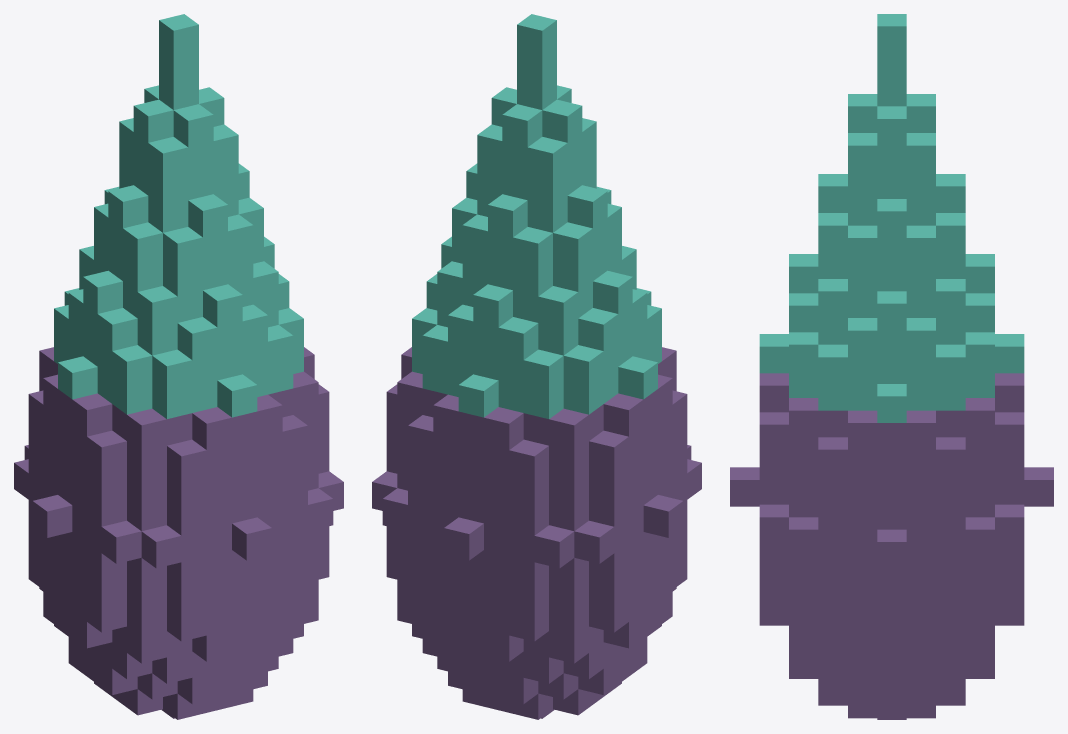
File: alien-biosphere-bottle-tree-ad7e7cdd__22684.glb
The picture shows the model from 3 angles, left to right: view 1: azimuth 30°, elevation 25°; view 2: azimuth 150°, elevation 25°; view 3: azimuth 270°, elevation 25°; orthographic projection.
Visible parts, largest first — view 1: bottle-tree; view 2: bottle-tree; view 3: bottle-tree.
Boxes of the visible parts, x1,y1,x2,y2 form: bottle-tree: [14, 14, 343, 719]; bottle-tree: [372, 14, 701, 719]; bottle-tree: [730, 14, 1053, 719].
Size of the model in its own units: 2.2 by 5.2 by 2.2.
